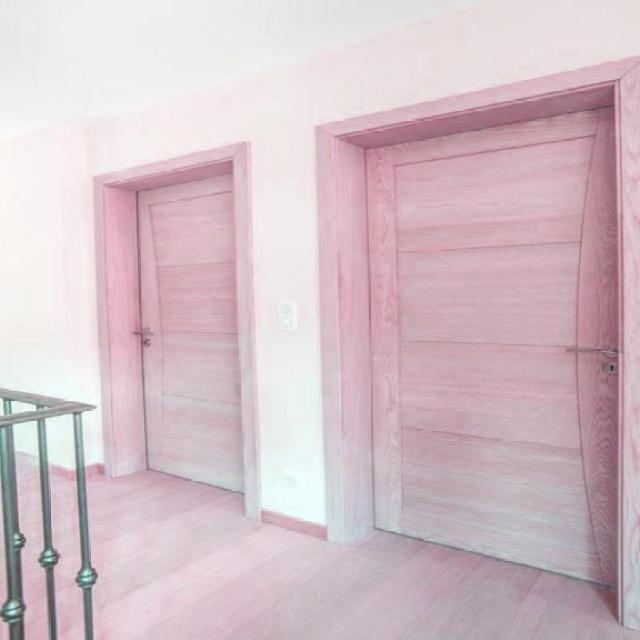door: (311, 80, 640, 589), (120, 144, 253, 506)
